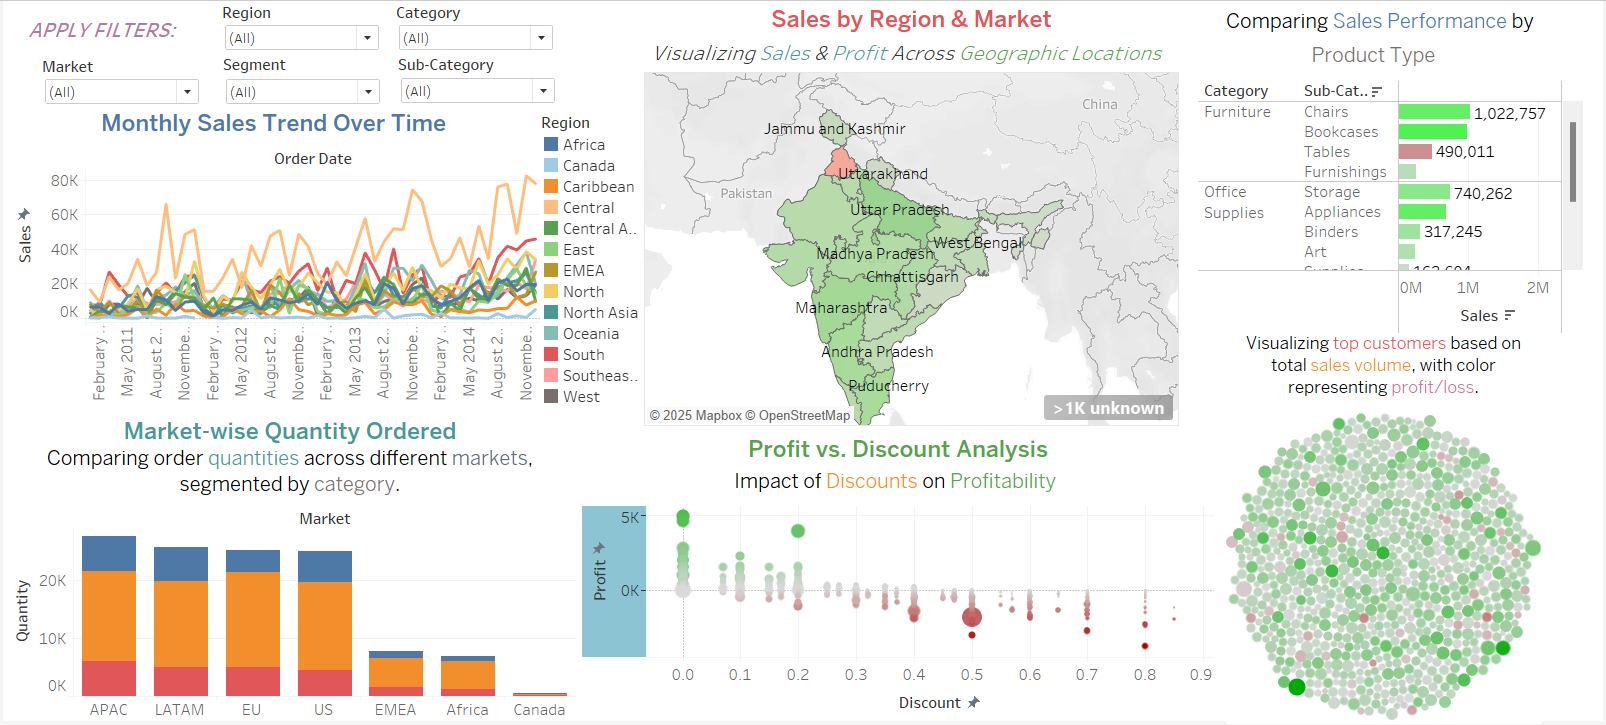

The dashboard page shown, as its layout file describes it:
{"tool":"tableau","page":{"name":"Dashboard 1","canvas":[1000,1000],"units":"permille","ordinal":0},"visuals":[{"type":"worksheet","title":"Sheet 4","mark":"Multipolygon","box":[400.6,0,334.4,590.3]},{"type":"filter","title":"Sheet 1","param":"[federated.186rnyl1ele4az1781ddt0nvid9p].[none:Region:nk]","box":[136.9,1.4,100,69.4]},{"type":"filter","title":"Sheet 2","param":"[federated.186rnyl1ele4az1781ddt0nvid9p].[none:Category:nk]","box":[245.6,1.4,100,69.4]},{"type":"worksheet","title":"Sheet 3","mark":"Automatic","rows":["Category","Sub-Category"],"cols":["Sales"],"box":[746.9,4.2,240.6,458.3]},{"type":"text","box":[11.2,13.9,101.9,51.4]},{"type":"filter","title":"Sheet 4","param":"[federated.186rnyl1ele4az1781ddt0nvid9p].[none:Segment:nk]","box":[137.5,73.6,100,75]},{"type":"filter","title":"Sheet 2","param":"[federated.186rnyl1ele4az1781ddt0nvid9p].[none:Sub-Category:nk]","box":[246.9,73.6,100,70.8]},{"type":"filter","title":"Sheet 4","param":"[federated.186rnyl1ele4az1781ddt0nvid9p].[none:Market:nk]","box":[24.4,76.4,100,68.1]},{"type":"worksheet","title":"Sheet 1","mark":"Automatic","rows":["Sales"],"cols":["Order Date"],"box":[2.5,144.4,333.1,412.5]},{"type":"legend","title":"Sheet 1","param":"[federated.186rnyl1ele4az1781ddt0nvid9p].[none:Region:nk]","box":[336.2,154.2,65.6,416.7]},{"type":"worksheet","title":"Sheet 5","mark":"Automatic","rows":["Quantity"],"cols":["Market"],"box":[0.6,572.2,357.5,427.8]},{"type":"worksheet","title":"Sheet 2","mark":"Circle","rows":["Profit"],"cols":["Discount"],"box":[361.9,597.2,395,401.4]}]}

Visuals, with their boxes on the dashboard's canvas, which has no fixed pixel size, in thousandths of its width and height (x1, y1, x2, y2). These are canvas units, not pixel positions in the 1606x725 screenshot, which may show the page scaled, cropped or inside an application window:
"Sheet 4" worksheet (Multipolygon marks): [401,0,735,590]
"Sheet 1" filter: [137,1,237,71]
"Sheet 2" filter: [246,1,346,71]
"Sheet 3" worksheet: [747,4,988,462]
text: [11,14,113,65]
"Sheet 4" filter: [138,74,238,149]
"Sheet 2" filter: [247,74,347,144]
"Sheet 4" filter: [24,76,124,144]
"Sheet 1" worksheet: [2,144,336,557]
"Sheet 1" legend: [336,154,402,571]
"Sheet 5" worksheet: [1,572,358,1000]
"Sheet 2" worksheet (Circle marks): [362,597,757,999]
